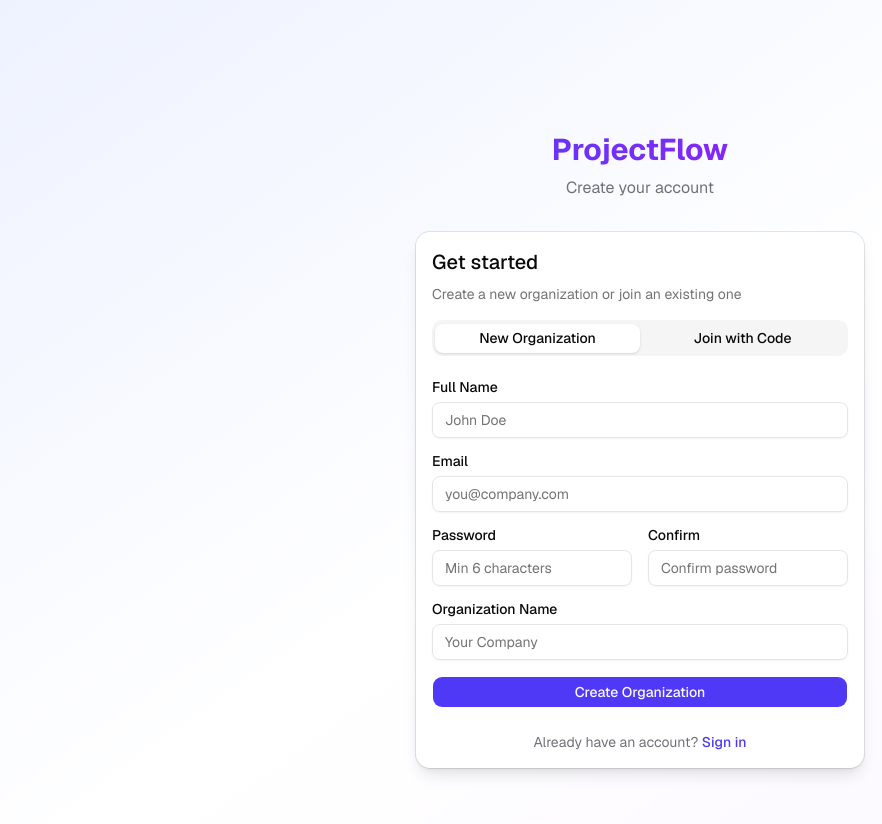
RegisterPage › shows error when password is too short
Type "12345" into the password field labelled "Password" at (532, 568), box [432,550,632,586]
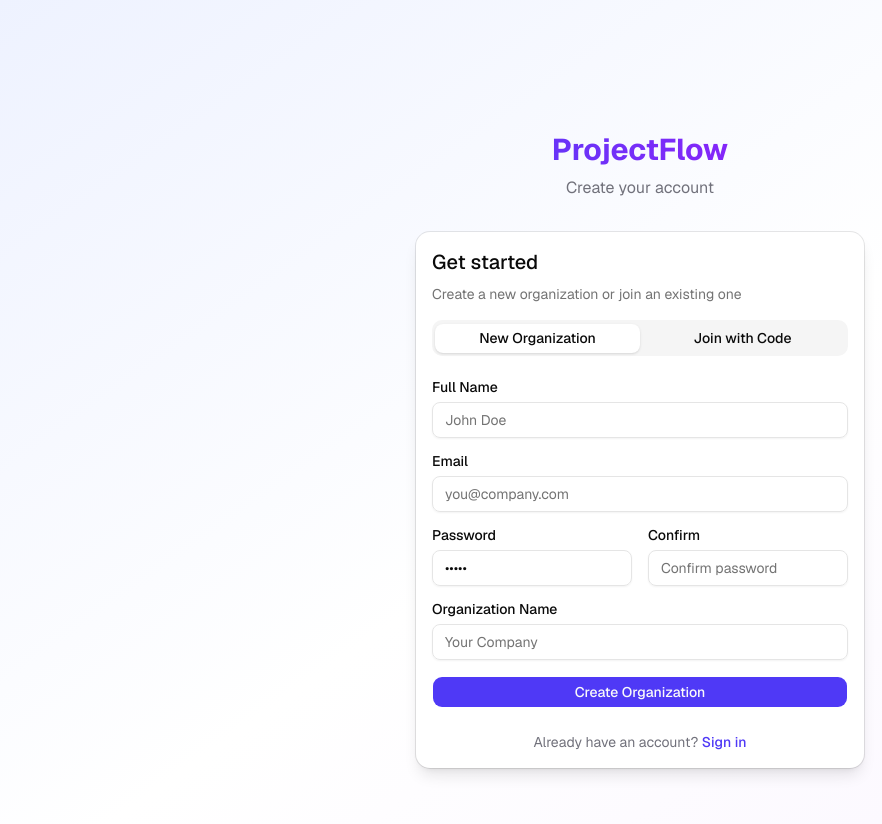
Type "12345" into the password field labelled "Confirm" at (748, 568), box [648,550,848,586]
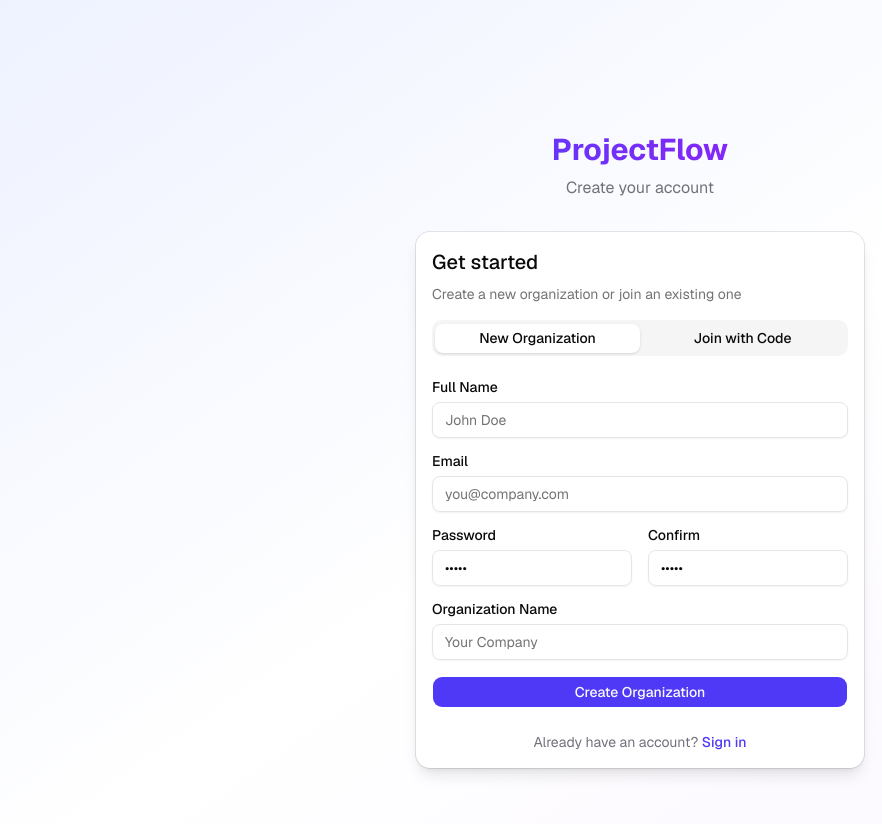
Submit the form, box [432,380,848,708]
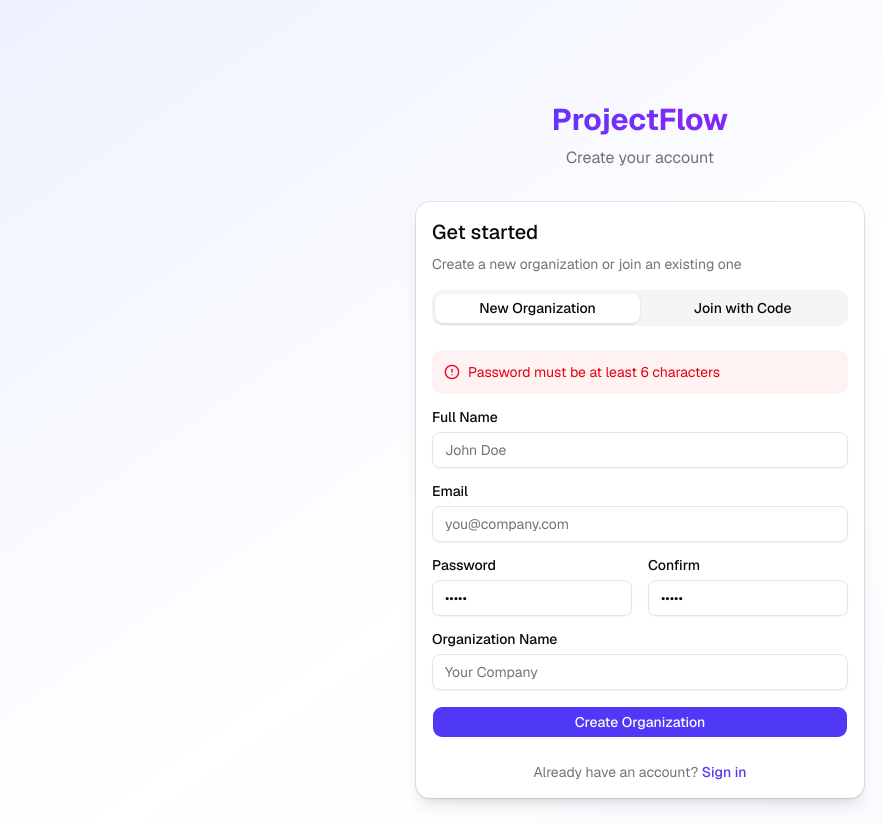
Expected: the text "Password must be at least 6 characters" is shown, [432,350,848,394]
